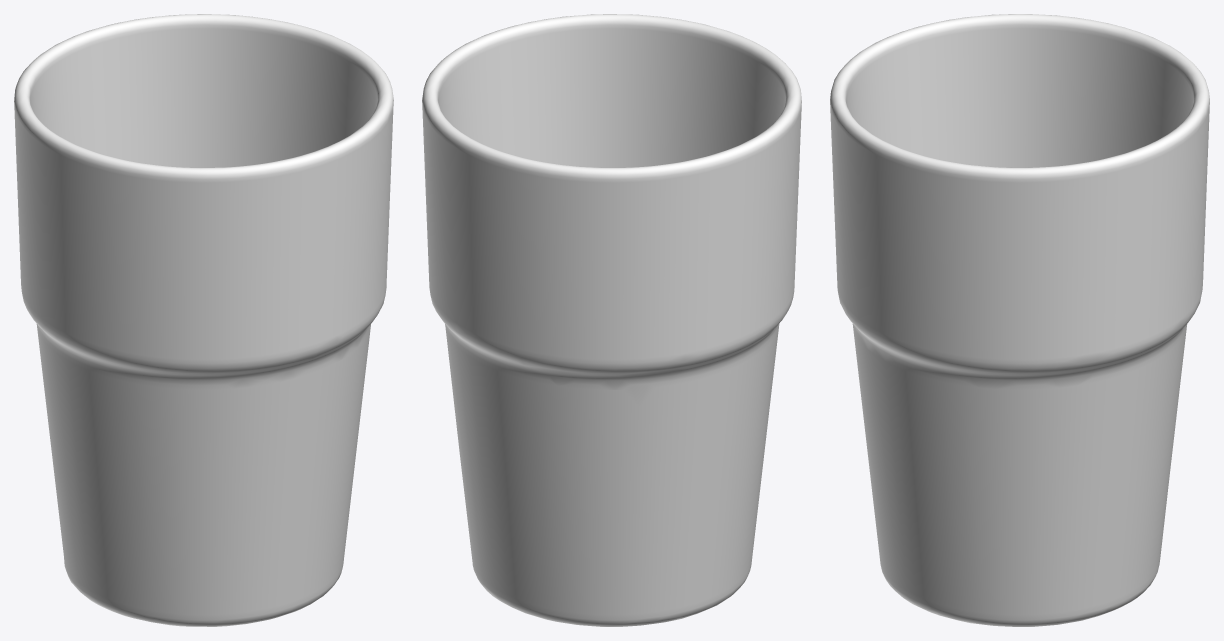
The model's file is reko_szklanka_80094014.glb.
The picture shows the model from 3 angles, left to right: view 1: azimuth 30°, elevation 25°; view 2: azimuth 150°, elevation 25°; view 3: azimuth 270°, elevation 25°; orthographic projection.
Visible parts, largest first — view 1: reko_szklanka_80094014; view 2: reko_szklanka_80094014; view 3: reko_szklanka_80094014.
Boxes of the visible parts, x1,y1,x2,y2 form: reko_szklanka_80094014: (14,14,393,626); reko_szklanka_80094014: (422,14,801,626); reko_szklanka_80094014: (830,14,1209,626).
Bounding box in the file's own units: 0.068 × 0.095 × 0.068.
1 material, 1 textured.
